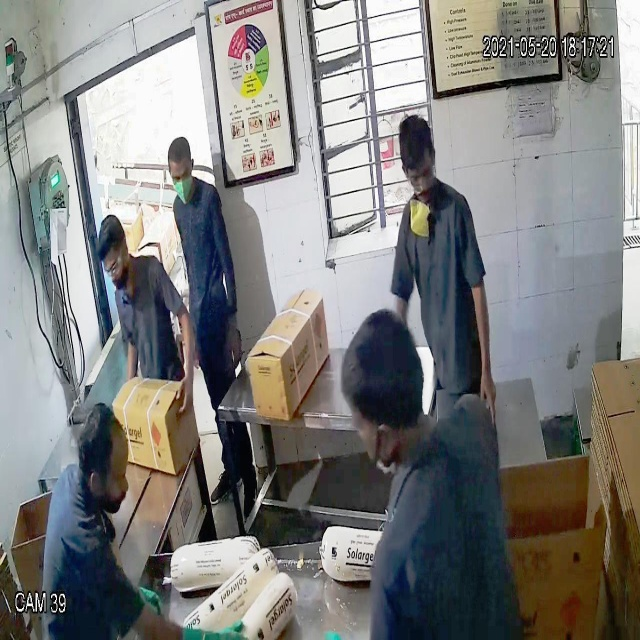Gafas: (401, 164, 440, 196), (98, 250, 127, 282)
Sin_gafas: (87, 461, 132, 499), (165, 164, 196, 192)
